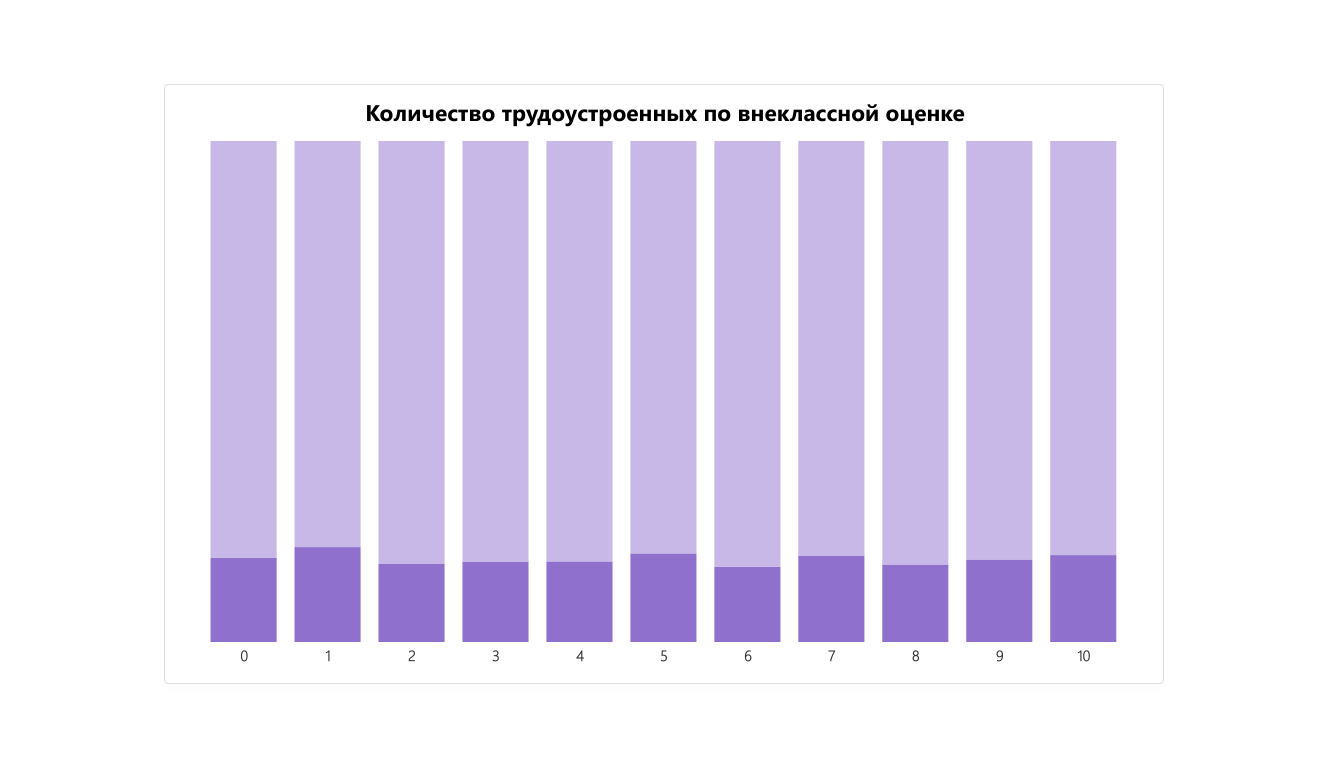

The dashboard page shown, as its layout file describes it:
{"tool":"powerbi","page":{"name":"ВНЕКЛАССНАЯ ОЦЕНКА","canvas":[1280,720],"ordinal":5},"visuals":[{"type":"hundredPercentStackedColumnChart","title":"Количество трудоустроенных по внеклассной оценке","fields":{"Category":["extra_curr_score.Внеклассная_оценка"],"Y":["Sum(extra_curr_score.Трудоустроенные)","Sum(extra_curr_score.Нетрудоустроенные)"]},"box":[139.7,60,1000.3,600],"z":0}]}

Visuals, with their boxes in screenshot pixels (x1, y1, x2, y2), scaled from the page's 1280x720 canvas onto the 1328x768 screenshot:
"Количество трудоустроенных по внеклассной оценке" hundredPercentStackedColumnChart: rect(145, 64, 1183, 704)
